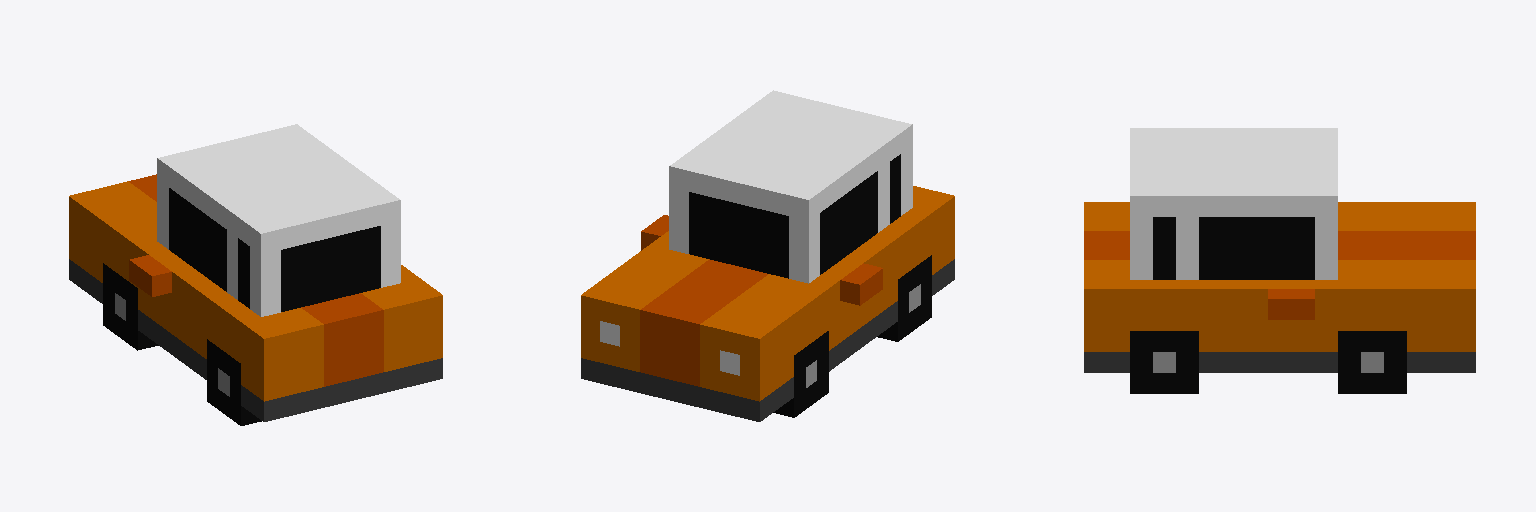
The picture shows the model from 3 angles: view 1: azimuth 30°, elevation 25°; view 2: azimuth 150°, elevation 25°; view 3: azimuth 270°, elevation 25°; orthographic projection.
Parts seen in each view (by area): view 1: car_short_4; view 2: car_short_4; view 3: car_short_4.
Boxes of the visible parts, box(x1,y1,x2,y2) form: car_short_4: box(69, 124, 442, 425); car_short_4: box(581, 90, 954, 421); car_short_4: box(1084, 128, 1475, 393).
Size of the model in its own units: 11 by 9 by 17.
Materials: 1 (1 with a texture image).